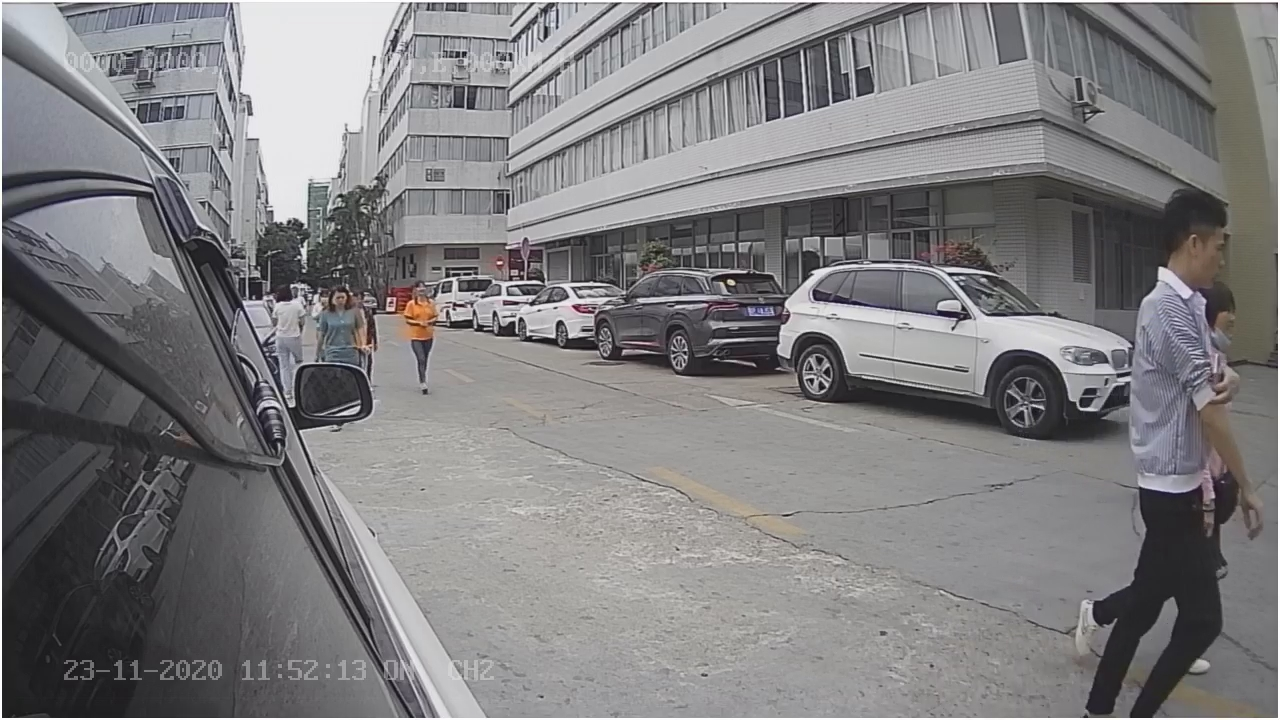person: (1130, 179, 1234, 446)
